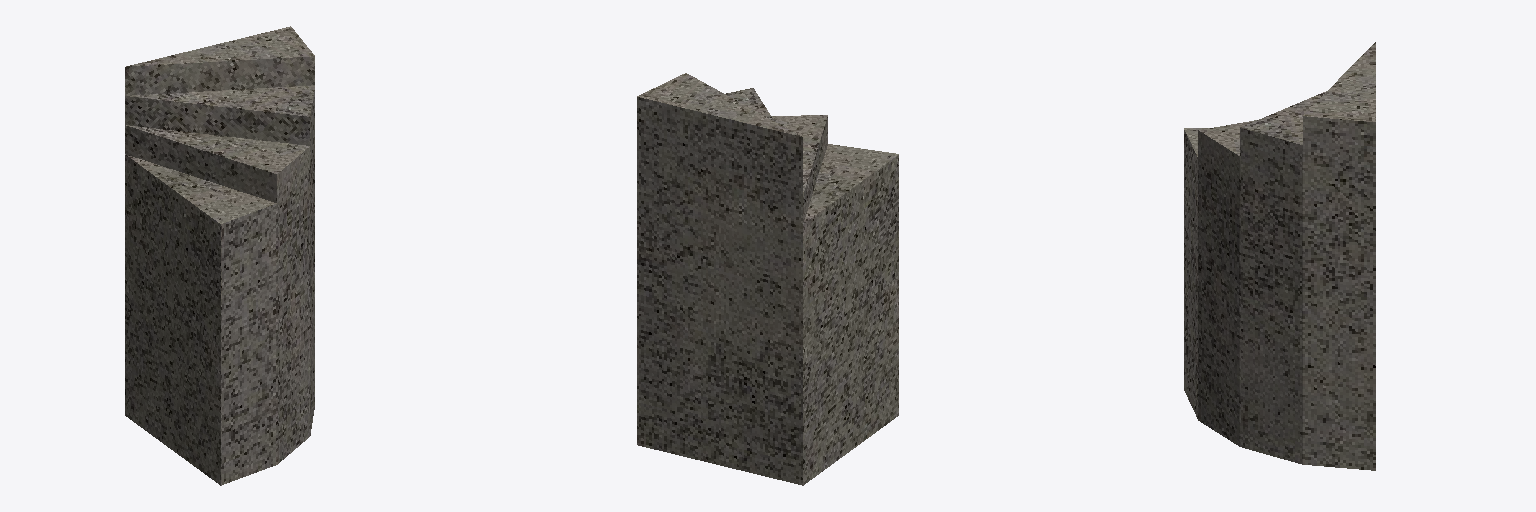
3 renders of one model, left to right at view 1: azimuth 30°, elevation 25°; view 2: azimuth 150°, elevation 25°; view 3: azimuth 270°, elevation 25°, orthographic.
Bounding box in the file's own units: 1 × 2 × 1.
Materials: 1 (1 with a texture image).